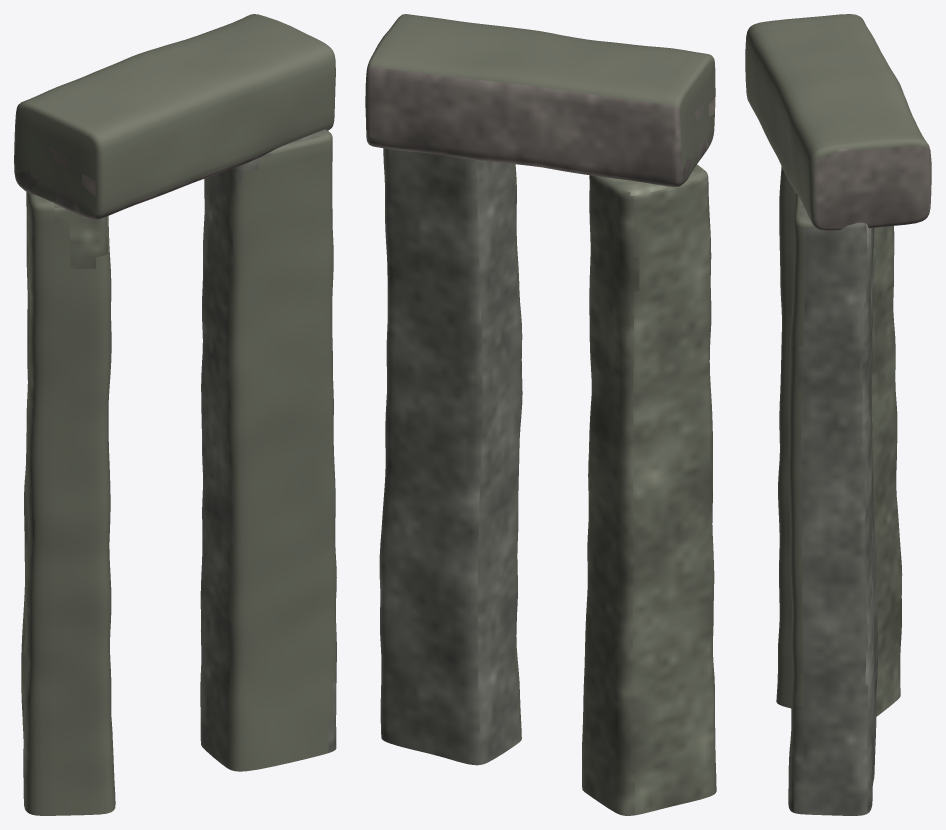
Rendered from AraHenge03.glb.
3 views of the same model, side by side, from view 1: azimuth 30°, elevation 25°; view 2: azimuth 150°, elevation 25°; view 3: azimuth 270°, elevation 25° (orthographic). The views are drawn at different scales.
Visible parts, largest first — view 1: AraHenge03; view 2: AraHenge03; view 3: AraHenge03.
Part boxes in pixels (x1,y1,x2,y2): AraHenge03: (14, 14, 336, 815); AraHenge03: (365, 14, 716, 815); AraHenge03: (745, 14, 931, 815).
Size of the model in its own units: 2.82 by 6.1 by 1.54.
2 materials, 1 textured.
